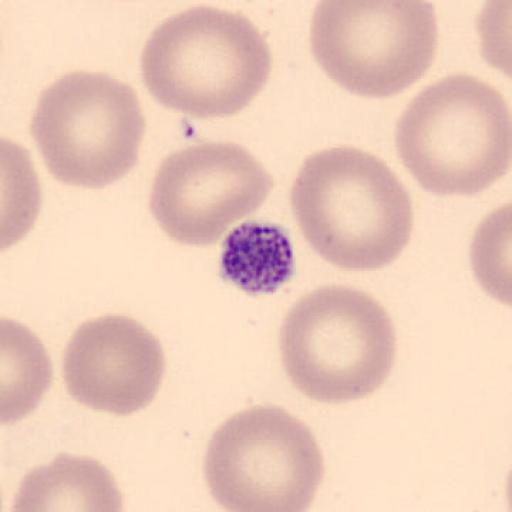Platelet: (218, 218, 298, 296)
RBC: (290, 142, 417, 274), (138, 3, 274, 120), (274, 282, 400, 406), (394, 70, 511, 199), (27, 68, 148, 192), (146, 138, 274, 250), (199, 404, 329, 510), (308, 0, 440, 100), (58, 312, 170, 420), (10, 452, 129, 510), (0, 136, 46, 252), (466, 200, 510, 308), (0, 310, 55, 385)
